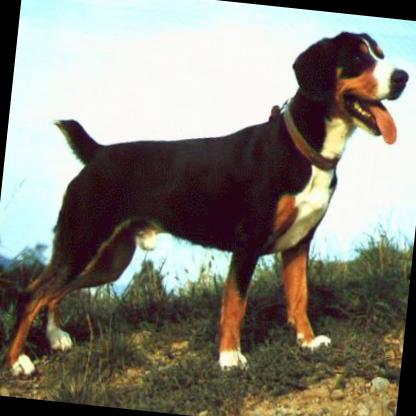EntleBucher: (2, 0, 413, 413)
